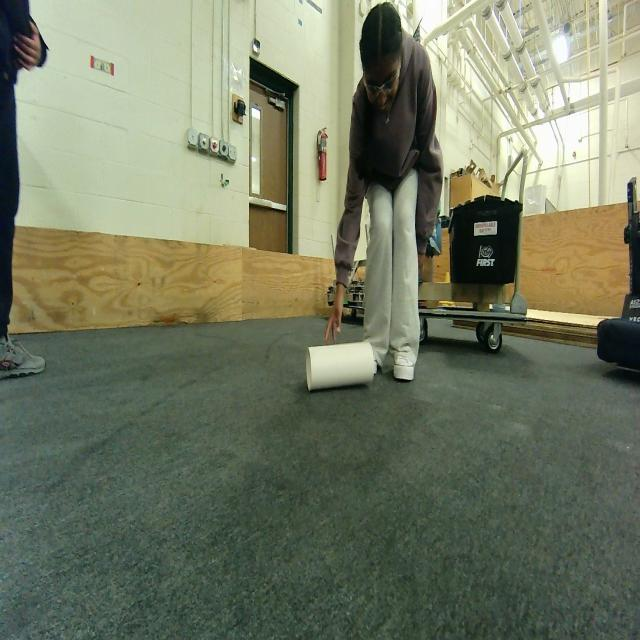coral: (302, 328, 380, 406)
